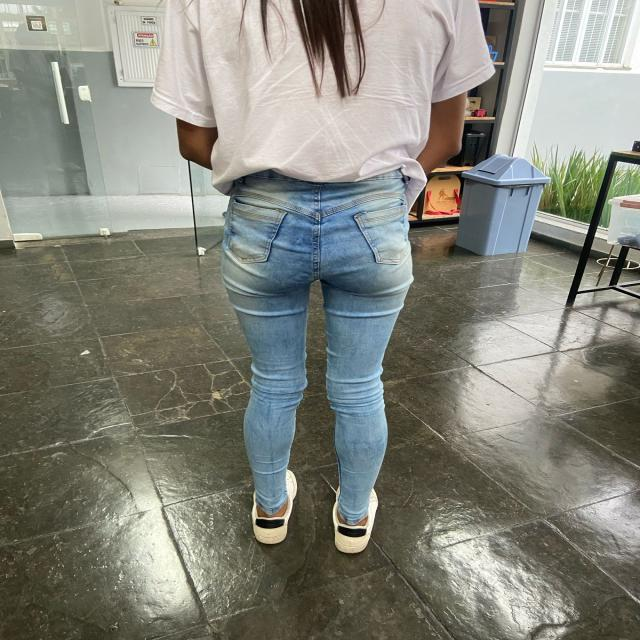SEM BOTA: (251, 468, 298, 551), (332, 478, 382, 552)
